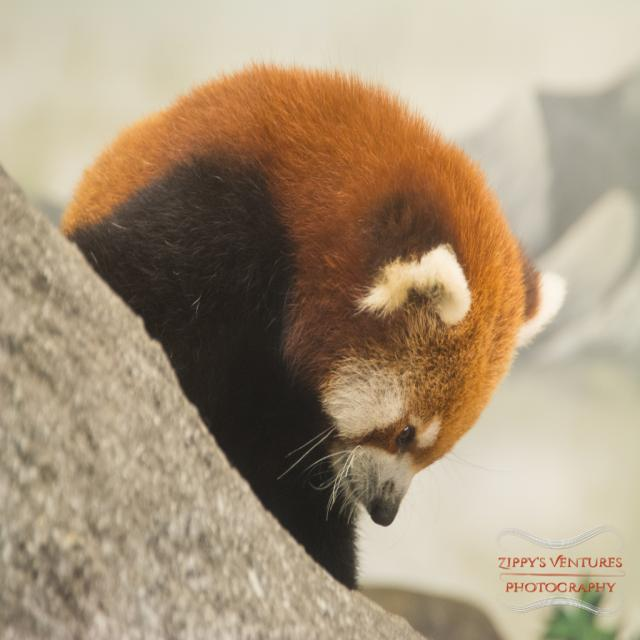panda: (73, 63, 531, 519)
